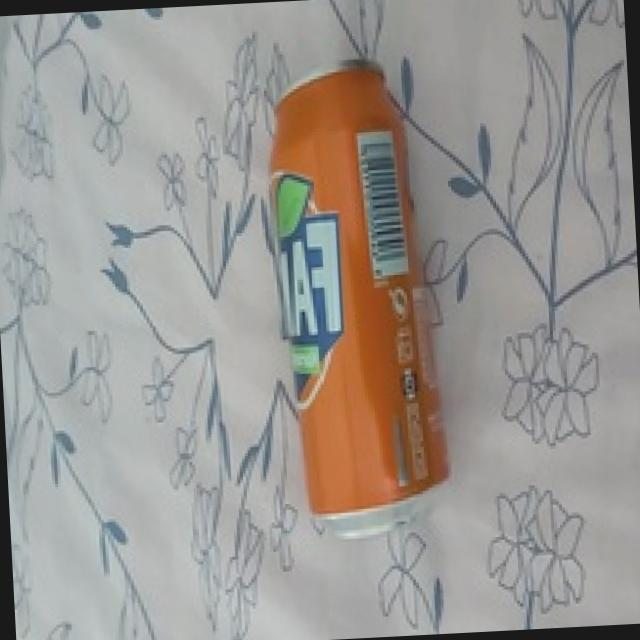can: (261, 52, 460, 546)
